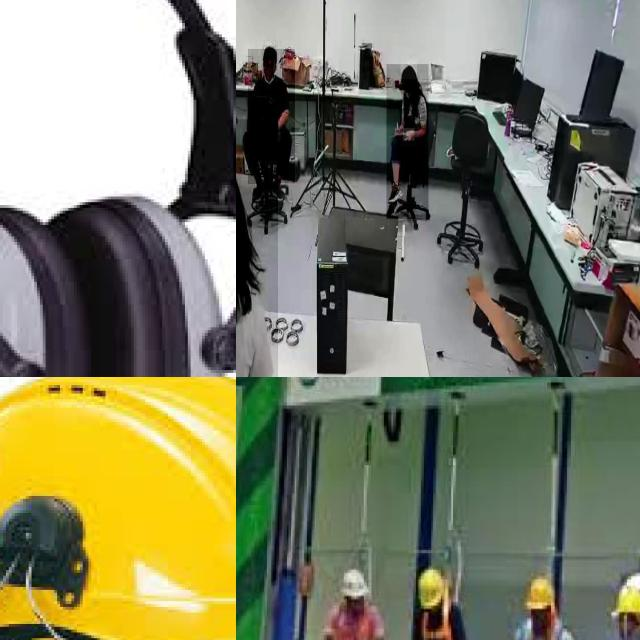Ear-protection: (108, 188, 230, 377), (0, 202, 82, 377)
Harness: (331, 587, 380, 640), (413, 593, 466, 640), (514, 607, 563, 640)
face_nomask: (263, 59, 275, 80)
hand_noglove: (403, 128, 415, 142), (394, 122, 404, 136)
head_helmet: (0, 377, 236, 640)
head_nohelmet: (400, 64, 418, 80), (262, 45, 276, 59)
person: (387, 64, 429, 220), (248, 49, 296, 184)
shoes: (386, 175, 404, 207)
